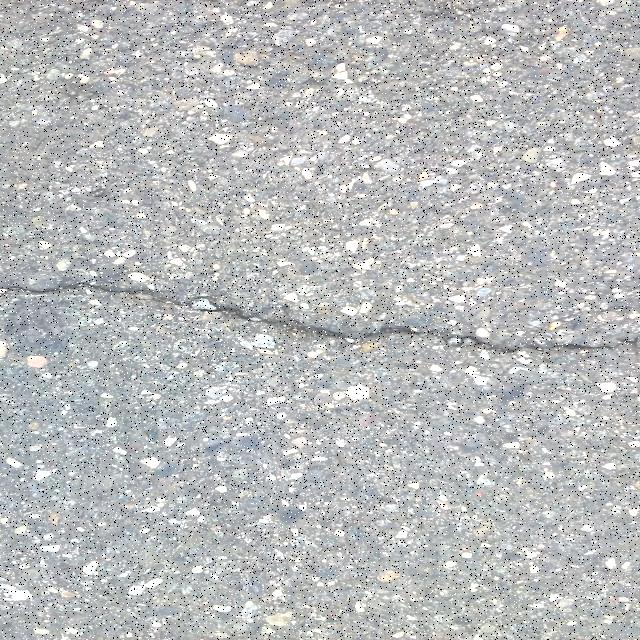Crack: (0, 284, 640, 356)
